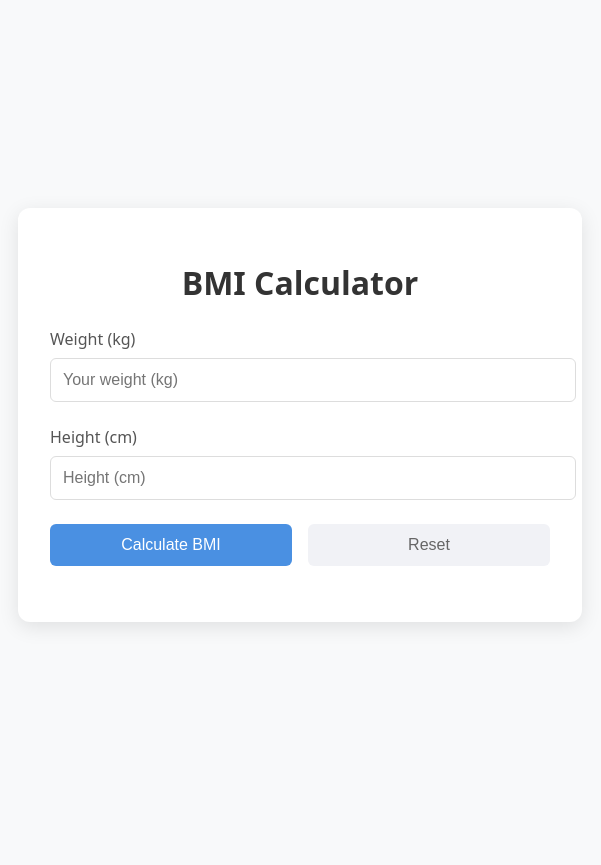
it: BMI Calculator › calculates BMI correctly
In the number field labelled "Weight (kg)": (313, 380) left=50, top=358, right=576, bottom=402, type "70"
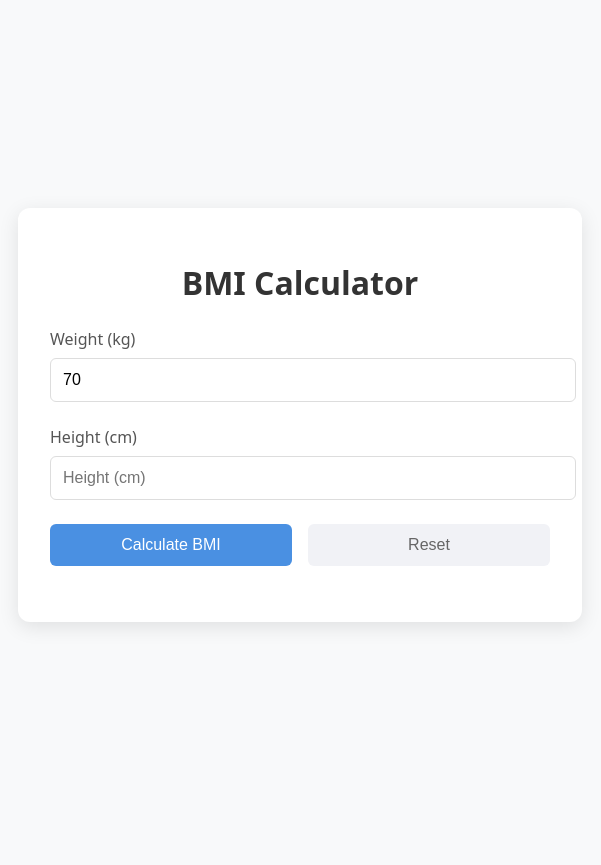
In the number field labelled "Height (cm)": (313, 478) left=50, top=456, right=576, bottom=500, type "175"
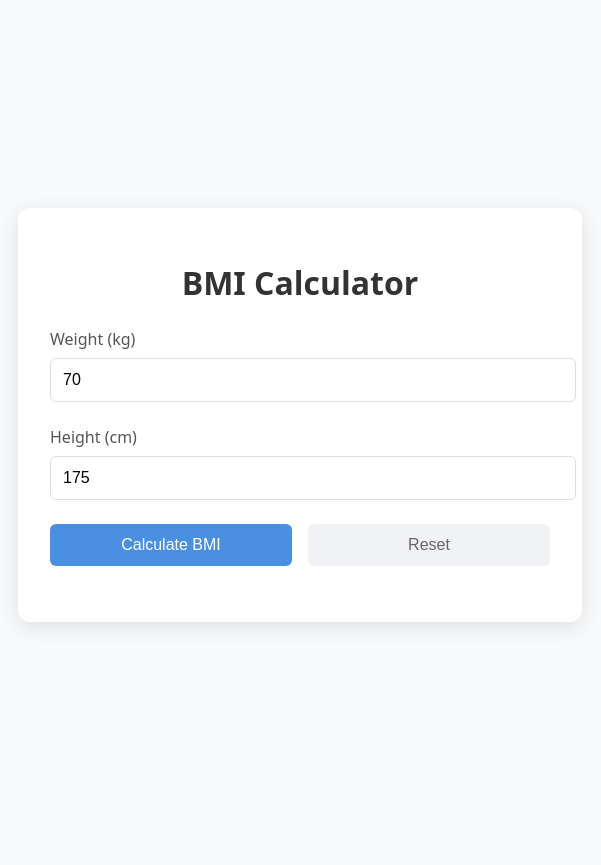
Click the button "Calculate BMI": (171, 545) left=50, top=524, right=292, bottom=566
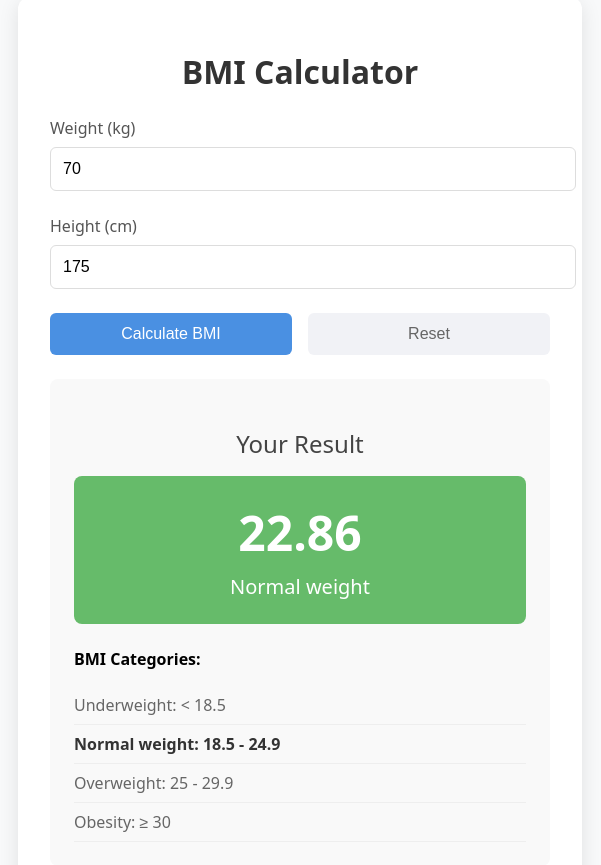
Check: the text "22.86" is shown, box left=238, top=500, right=362, bottom=565
Check: the text "Normal weight" is shown, box left=230, top=573, right=370, bottom=600
